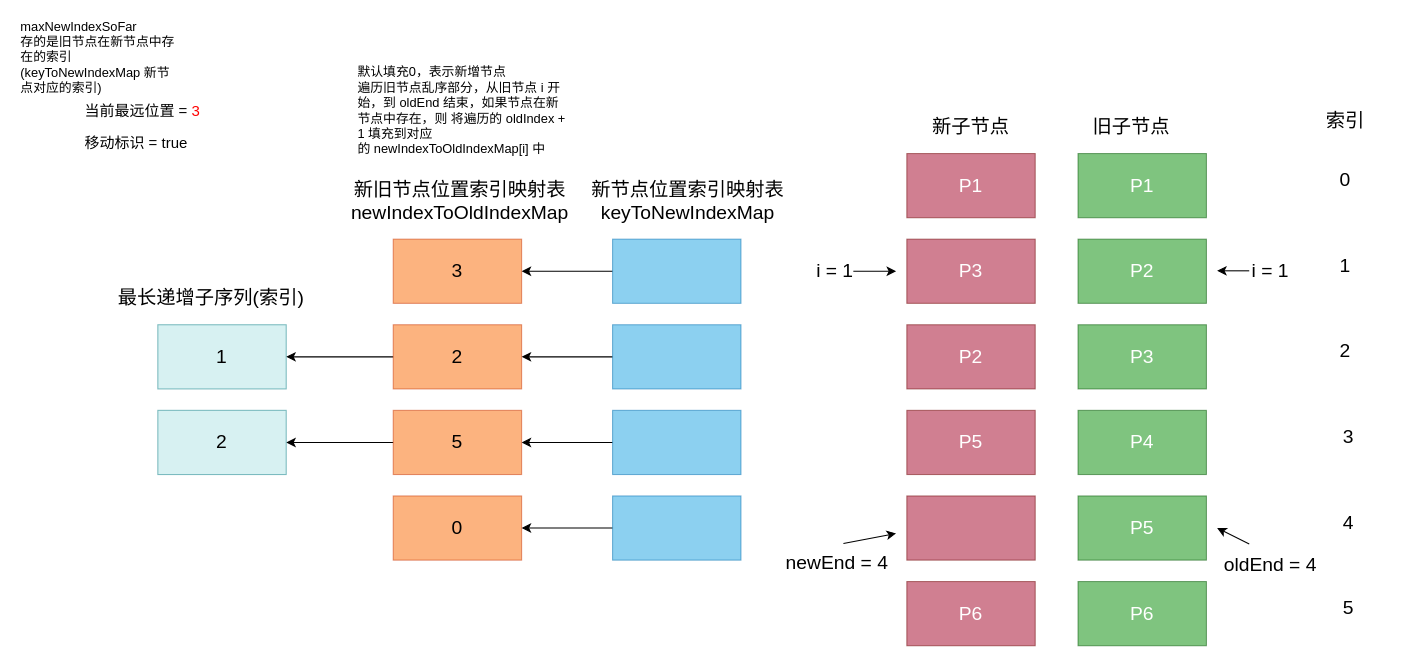
Image size: 1406x664. Some labels were removed from this diagram. Here are the shapes that lost their labels. From the top down, the box of each, then its label:
(612, 238, 741, 303): P3: 1
(612, 324, 741, 389): P2: 2
(612, 409, 741, 475): P5: 3
(612, 495, 741, 560): P7: 4
(906, 495, 1035, 560): P7
